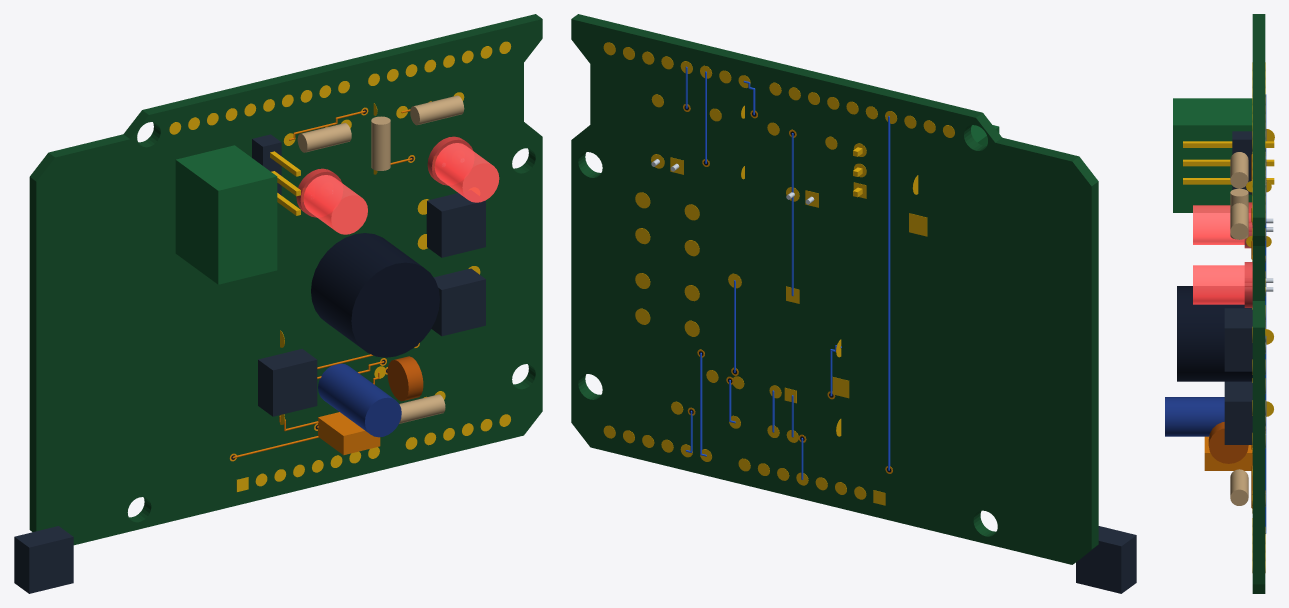
File: user_multi_peripheral_pcb.glb
3 renders of one model, left to right at view 1: azimuth 30°, elevation 25°; view 2: azimuth 150°, elevation 25°; view 3: azimuth 270°, elevation 25°, orthographic. The views are drawn at different scales.
Parts seen in each view (by area): view 1: FR4 Board Substrate, M1 Housing, SPK1 Buzzer Casing, C_SERVO1 Electrolytic Can, U1 Body, POT1 Body, SW1 Body, SW2 Body, D1 LED 5mm Dome, D2 LED 5mm Dome, C_DECOUPLING Housing, LDR1 Resistor Body (+5 smaller); view 2: FR4 Board Substrate, U1 Body, Trace GND (bottom); view 3: FR4 Board Substrate, M1 Housing, SPK1 Buzzer Casing, C_SERVO1 Electrolytic Can, D1 LED 5mm Dome, SW1 Body, SW2 Body, D2 LED 5mm Dome, LDR1 Resistor Body, C_DECOUPLING Housing, R4 Resistor Body, R1 Resistor Body (+9 smaller).
Boxes of the visible parts, x1,y1,x2,y2 form: FR4 Board Substrate: [29, 14, 542, 545]; M1 Housing: [175, 145, 277, 284]; SPK1 Buzzer Casing: [311, 233, 439, 357]; C_SERVO1 Electrolytic Can: [318, 363, 401, 437]; U1 Body: [14, 526, 73, 593]; POT1 Body: [258, 349, 317, 416]; SW1 Body: [426, 193, 485, 257]; SW2 Body: [431, 268, 485, 336]; D1 LED 5mm Dome: [434, 143, 499, 202]; D2 LED 5mm Dome: [303, 175, 367, 234]; C_DECOUPLING Housing: [318, 412, 380, 455]; LDR1 Resistor Body: [387, 356, 423, 401]; FR4 Board Substrate: [571, 14, 1098, 564]; U1 Body: [1076, 526, 1136, 593]; Trace GND (bottom): [888, 116, 890, 470]; FR4 Board Substrate: [1252, 14, 1265, 593]; M1 Housing: [1173, 98, 1252, 212]; SPK1 Buzzer Casing: [1177, 286, 1252, 381]; C_SERVO1 Electrolytic Can: [1165, 397, 1224, 436]; D1 LED 5mm Dome: [1193, 265, 1244, 304]; SW1 Body: [1224, 308, 1252, 371]; SW2 Body: [1224, 381, 1252, 444]; D2 LED 5mm Dome: [1193, 205, 1244, 244]; LDR1 Resistor Body: [1208, 422, 1248, 463]; C_DECOUPLING Housing: [1204, 436, 1252, 470]; R4 Resistor Body: [1230, 469, 1248, 505]; R1 Resistor Body: [1230, 203, 1248, 239].
Size of the model in its own units: 71.58 by 56.34 by 13.82.
